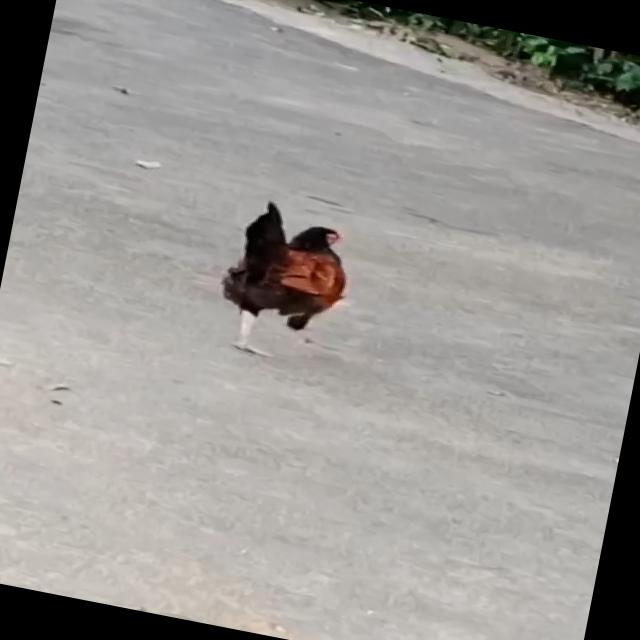walking: (202, 189, 380, 379)
